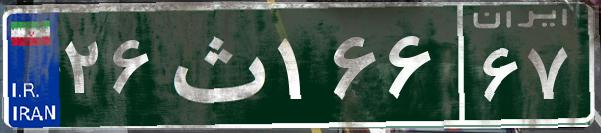1: (273, 28, 330, 110)
2: (57, 26, 110, 107)
6: (385, 28, 445, 110), (330, 28, 385, 110), (475, 38, 525, 113), (110, 28, 158, 105)
7: (525, 38, 570, 115)
ث: (158, 15, 273, 115)
